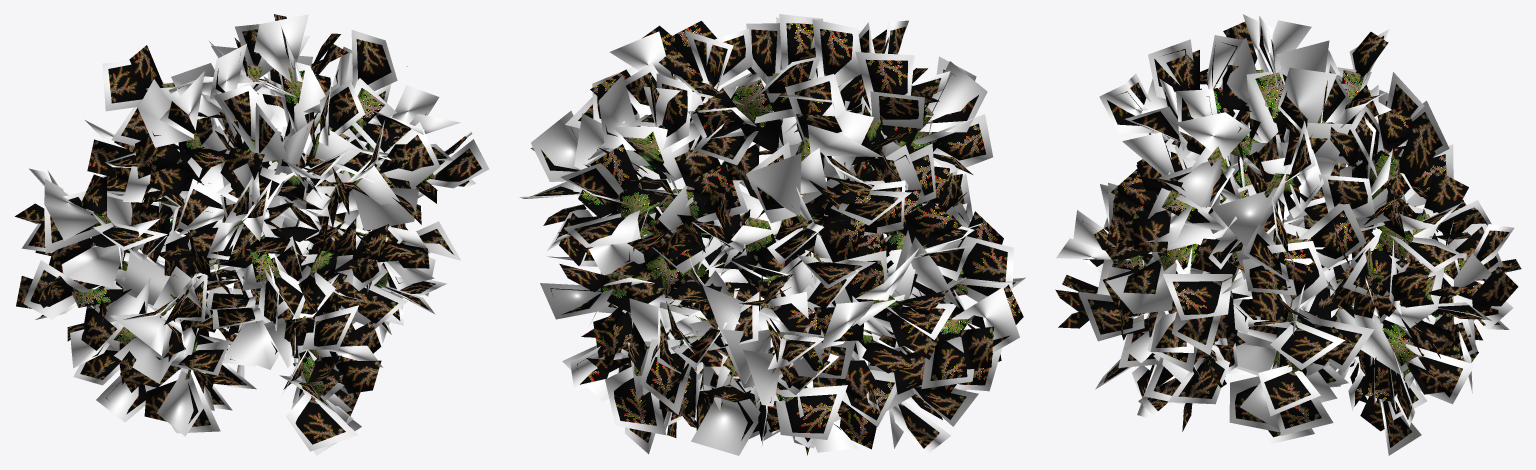
The model's file is barberry3.glb.
The picture shows the model from 3 angles, left to right: view 1: azimuth 30°, elevation 25°; view 2: azimuth 150°, elevation 25°; view 3: azimuth 270°, elevation 25°; orthographic projection. The views are drawn at different scales.
Visible parts, largest first — view 1: barberry3; view 2: barberry3; view 3: barberry3.
Boxes of the visible parts, x1=… form: barberry3: x1=15, y1=14, x2=489, y2=455; barberry3: x1=519, y1=14, x2=1025, y2=455; barberry3: x1=1055, y1=14, x2=1521, y2=455.
Bounding box in the file's own units: 4.17 × 3.29 × 3.63.
Materials: 3 (2 with a texture image).
